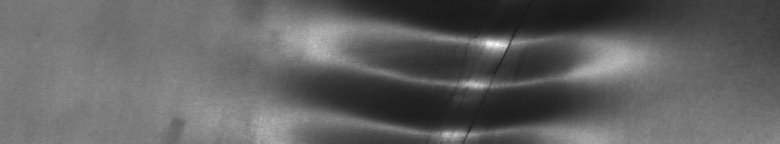ke: (332, 16, 584, 136)
